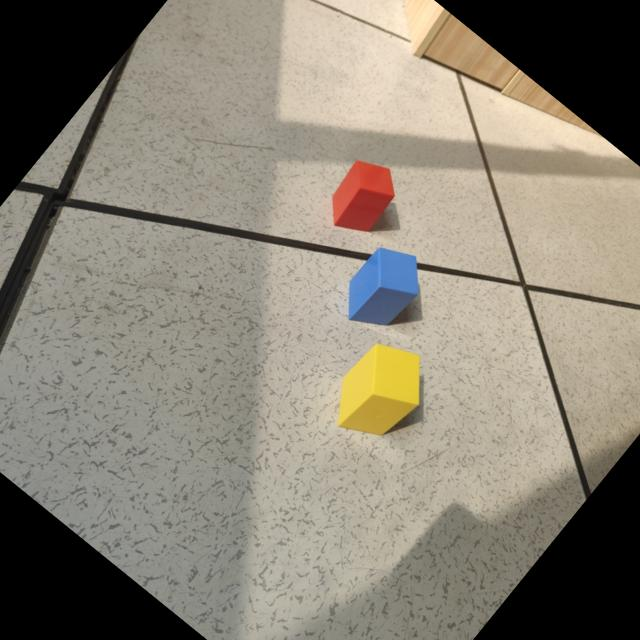blue: (348, 242, 421, 328)
red: (327, 157, 398, 234)
yellow: (335, 341, 424, 435)
